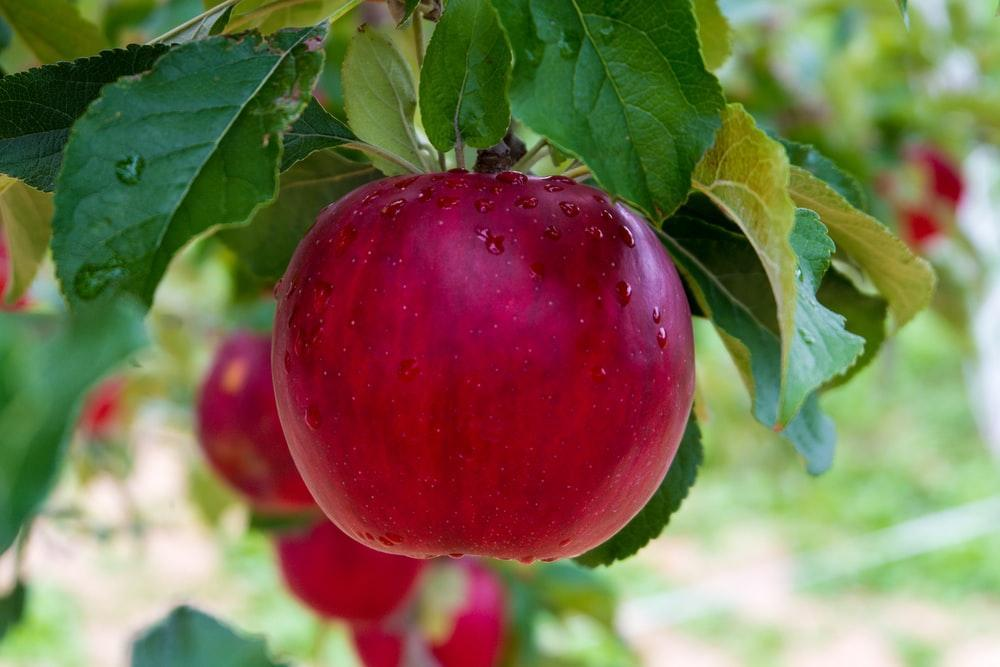apple: (263, 169, 694, 557)
